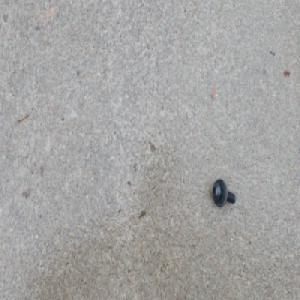BoltWasher: (211, 177, 236, 208)
